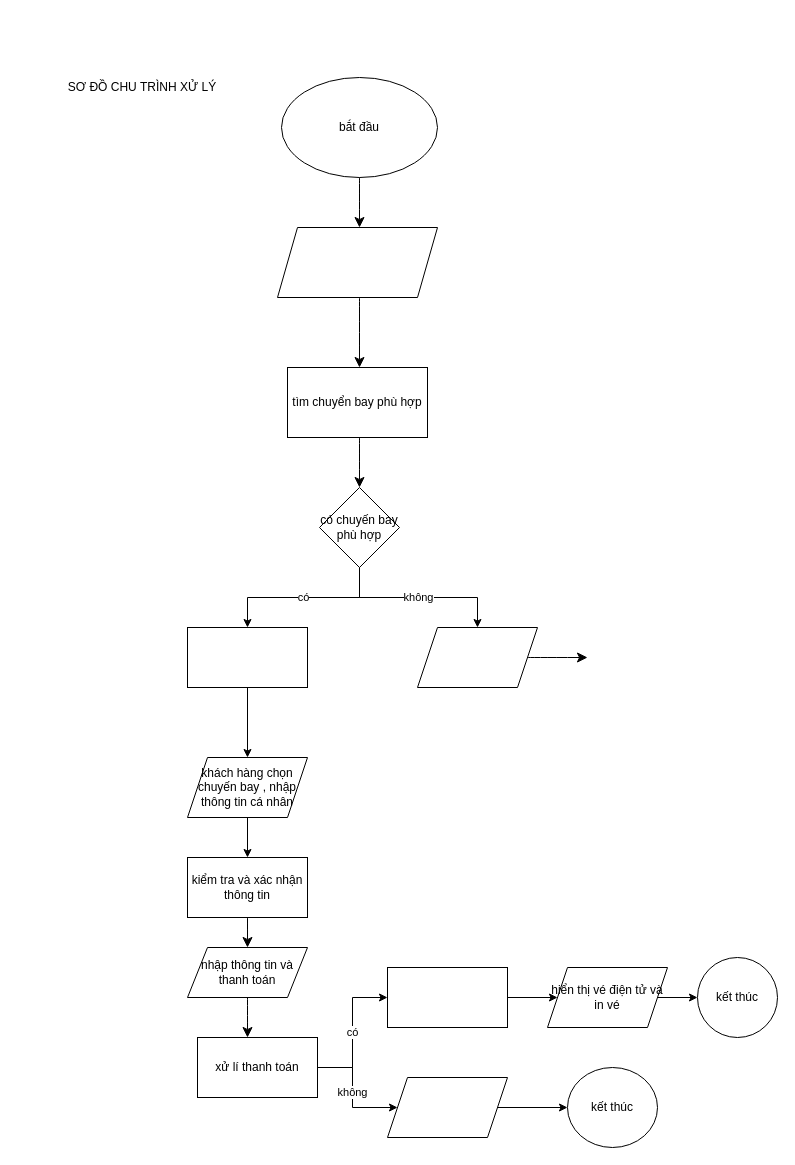
Image size: 795x1165. Some labels were removed from this diagram. Here are the shapes that lost their labels. From the top down, the centre of each, then its label:
the point at 357,262: nhập thông tin chuyển bay
the point at 247,657: hiển thị chyến bay
the point at 477,657: TB: không có chuyến bay
the point at 447,997: gửi xác nhận vé
the point at 447,1107: thông báo lỗi
